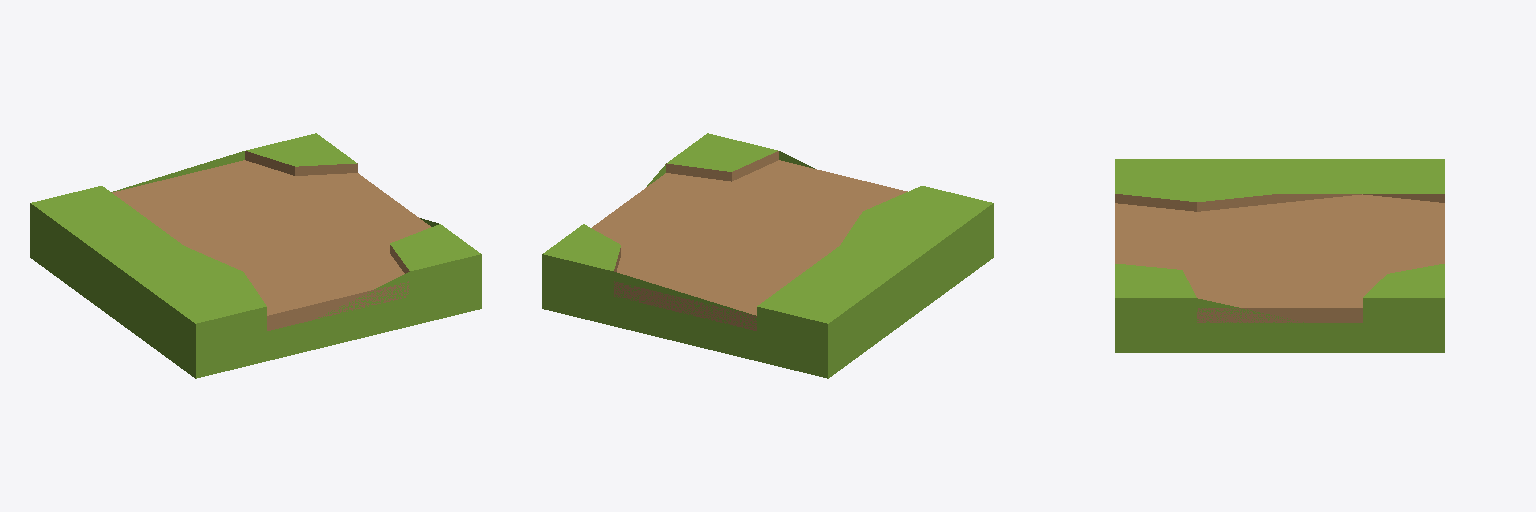
Rendered from T-Junction.obj.
3 renders of one model, left to right at view 1: azimuth 30°, elevation 25°; view 2: azimuth 150°, elevation 25°; view 3: azimuth 270°, elevation 25°, orthographic.
Parts seen in each view (by area): view 1: roadTile_013; view 2: roadTile_013; view 3: roadTile_013.
Part boxes in pixels (x1,y1,x2,y2): roadTile_013: (30, 133, 481, 378); roadTile_013: (542, 133, 993, 378); roadTile_013: (1115, 159, 1444, 352).
Size of the model in its own units: 3 by 0.55 by 3.